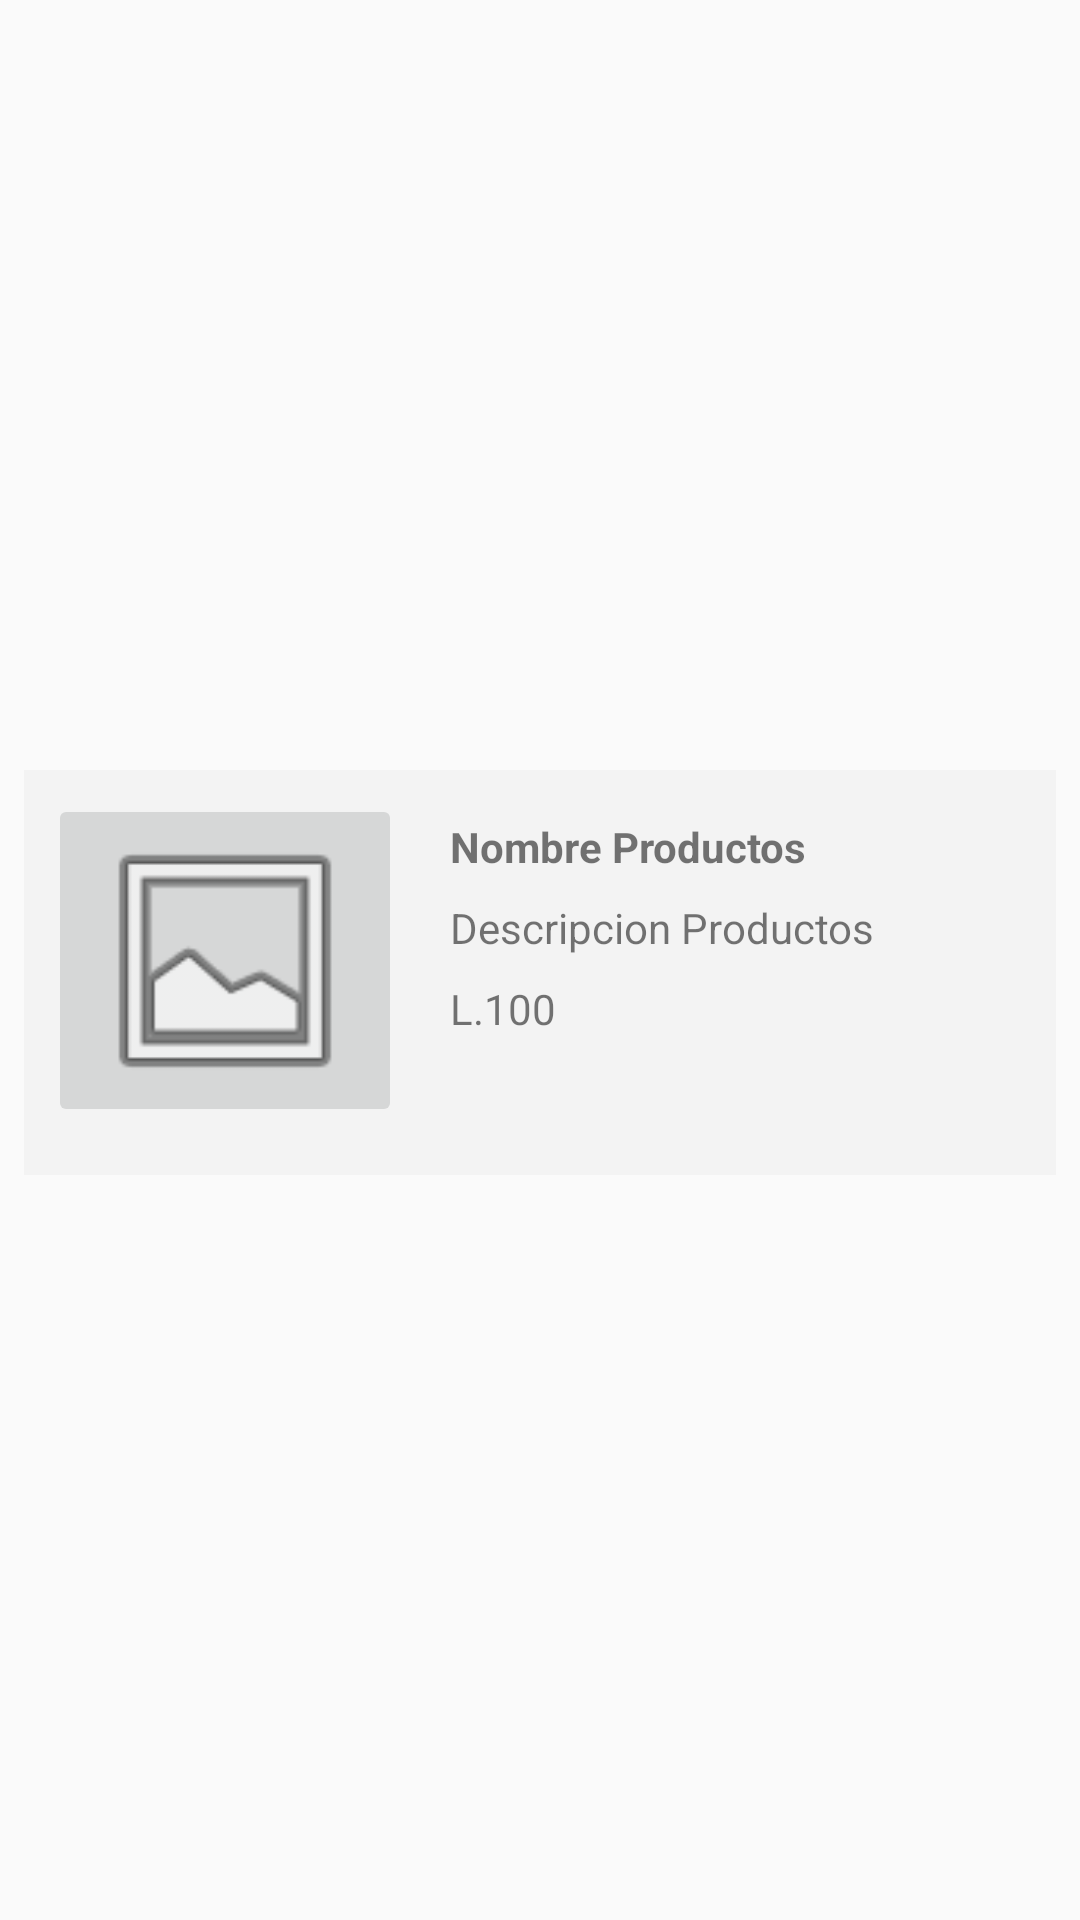

Screen size 1080x1920. Icon name, then its box in pixels as [x1,y1,x2,y2]:
gallery: [60,812,390,1109]
